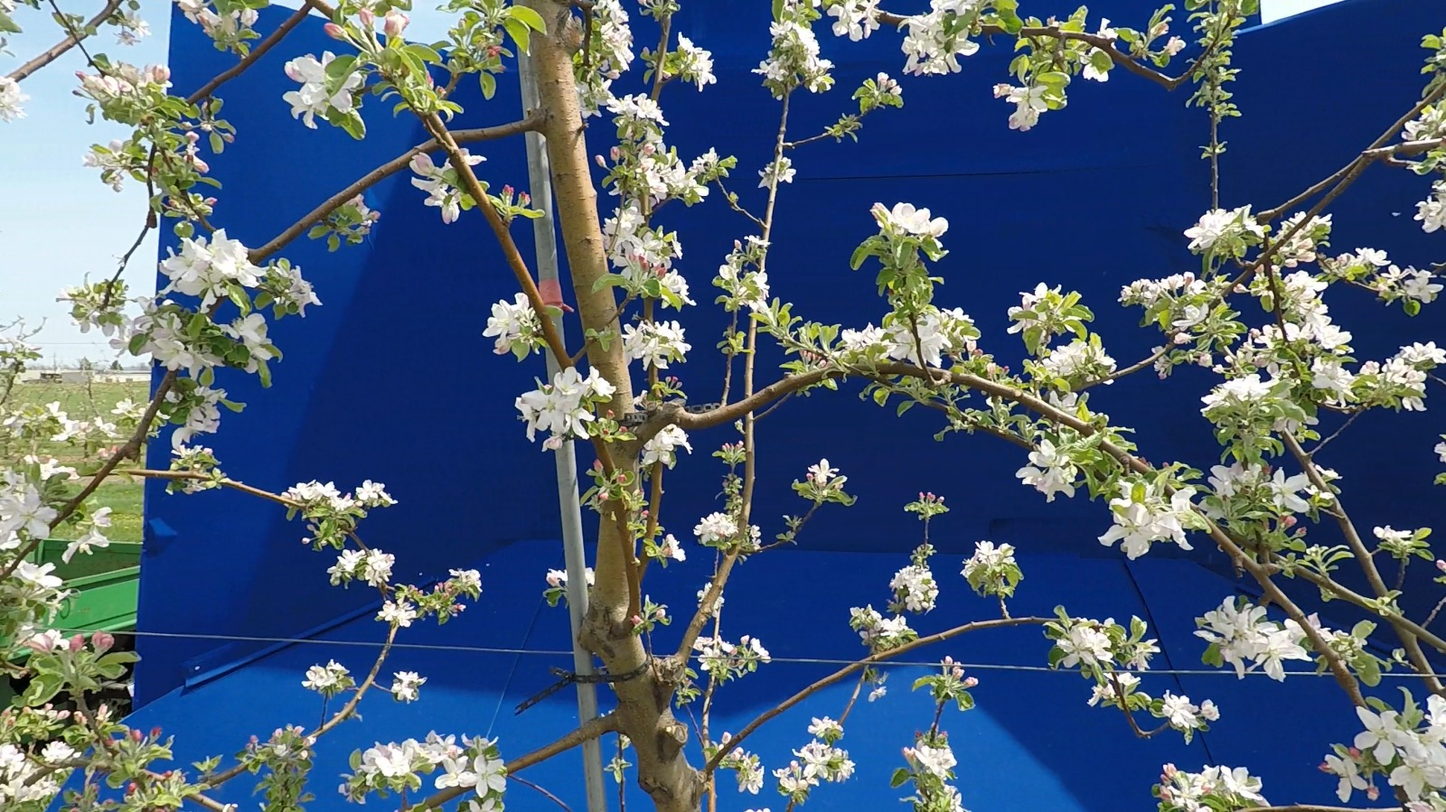flower: (102, 229, 270, 359), (135, 314, 226, 458), (1098, 476, 1227, 560), (1194, 597, 1313, 682), (357, 732, 508, 798), (1355, 695, 1446, 804), (515, 367, 616, 452), (887, 0, 980, 77), (284, 51, 367, 129), (635, 126, 717, 203), (600, 199, 684, 273), (1282, 271, 1352, 350), (770, 17, 835, 92), (0, 470, 60, 551), (1160, 765, 1263, 812), (577, 79, 670, 126), (841, 318, 923, 369), (0, 742, 61, 807), (1185, 204, 1270, 250), (1016, 440, 1078, 502), (409, 152, 462, 224), (871, 203, 949, 251), (916, 305, 974, 369), (1201, 372, 1282, 417), (621, 320, 692, 371), (1382, 342, 1446, 398), (1152, 691, 1220, 743), (1051, 618, 1115, 673), (1259, 467, 1334, 513), (1034, 341, 1117, 382), (210, 309, 273, 361), (483, 294, 536, 355), (327, 548, 398, 592), (1320, 744, 1371, 803), (592, 0, 634, 71), (1131, 271, 1209, 309), (273, 259, 323, 318), (62, 508, 112, 565), (993, 84, 1051, 132), (905, 735, 957, 787), (888, 561, 939, 613), (1311, 357, 1360, 408), (827, 0, 885, 42), (638, 425, 693, 469), (793, 739, 842, 787), (1381, 266, 1444, 303), (678, 33, 717, 92), (961, 541, 1018, 579), (288, 481, 357, 512), (865, 604, 917, 644), (1008, 283, 1048, 334), (302, 659, 350, 694), (759, 147, 798, 190), (46, 402, 89, 441), (1335, 248, 1392, 277), (8, 560, 62, 590), (694, 513, 740, 546), (118, 61, 168, 90), (23, 630, 88, 652), (0, 78, 31, 124), (1414, 189, 1446, 233), (1208, 461, 1245, 499), (658, 270, 697, 306), (173, 0, 223, 28), (80, 76, 136, 100), (1166, 303, 1209, 334), (391, 672, 426, 704), (1374, 518, 1413, 546), (376, 601, 418, 627), (953, 327, 983, 361), (119, 8, 152, 38), (693, 634, 734, 658), (752, 55, 789, 81), (357, 481, 398, 504), (383, 6, 408, 43), (1049, 391, 1079, 419), (1252, 325, 1283, 352), (1392, 397, 1427, 420), (751, 261, 771, 300), (40, 459, 73, 481), (809, 717, 843, 738), (42, 742, 75, 763), (112, 398, 142, 417), (774, 768, 797, 792), (1157, 37, 1186, 56), (666, 535, 686, 562), (469, 797, 505, 812), (75, 315, 101, 334), (95, 416, 118, 437), (1310, 464, 1342, 479), (1084, 63, 1109, 82), (1097, 19, 1119, 40), (459, 148, 486, 165), (750, 639, 771, 659), (1117, 673, 1141, 686), (244, 358, 258, 373), (699, 658, 710, 670), (1241, 230, 1247, 233), (122, 298, 127, 300)
